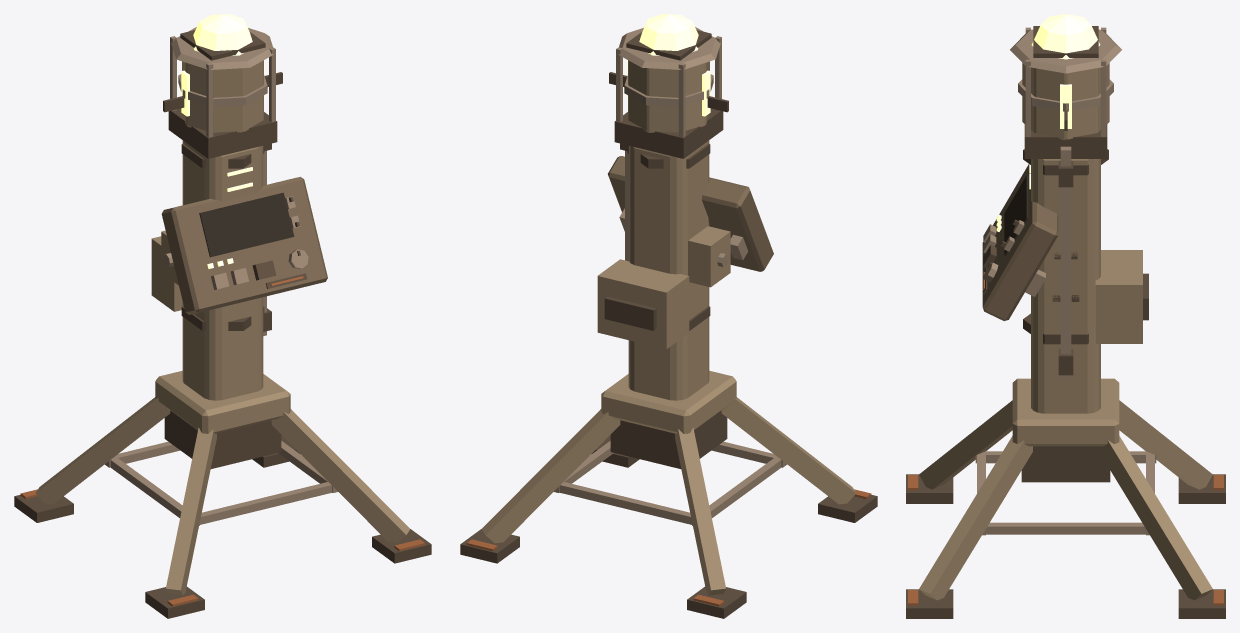
Rendered from extraction_beacon_saltflat.glb.
3 views of the same model, side by side, from view 1: azimuth 30°, elevation 25°; view 2: azimuth 150°, elevation 25°; view 3: azimuth 270°, elevation 25° (orthographic). The views are drawn at different scales.
Parts seen in each view (by area): view 1: Beacon_Legs, Beacon_Body, Beacon_Panel, Beacon_Light, Beacon_Light_Glow; view 2: Beacon_Body, Beacon_Legs, Beacon_Light, Beacon_Panel, Beacon_Light_Glow; view 3: Beacon_Legs, Beacon_Body, Beacon_Light, Beacon_Panel, Beacon_Light_Glow.
Part boxes in pixels (bbox=[...]): Beacon_Legs: bbox=[14, 370, 431, 618]; Beacon_Body: bbox=[151, 140, 281, 468]; Beacon_Panel: bbox=[161, 176, 327, 314]; Beacon_Light: bbox=[163, 27, 282, 158]; Beacon_Light_Glow: bbox=[181, 14, 264, 191]; Beacon_Body: bbox=[597, 140, 730, 468]; Beacon_Legs: bbox=[460, 370, 877, 618]; Beacon_Light: bbox=[609, 27, 728, 158]; Beacon_Panel: bbox=[608, 156, 773, 271]; Beacon_Light_Glow: bbox=[627, 14, 710, 116]; Beacon_Legs: bbox=[906, 378, 1225, 618]; Beacon_Body: bbox=[1021, 146, 1148, 482]; Beacon_Light: bbox=[1010, 26, 1121, 158]; Beacon_Panel: bbox=[982, 164, 1058, 320]; Beacon_Light_Glow: bbox=[1029, 14, 1100, 189].
Size of the model in its own units: 1.07 by 2 by 1.08.
